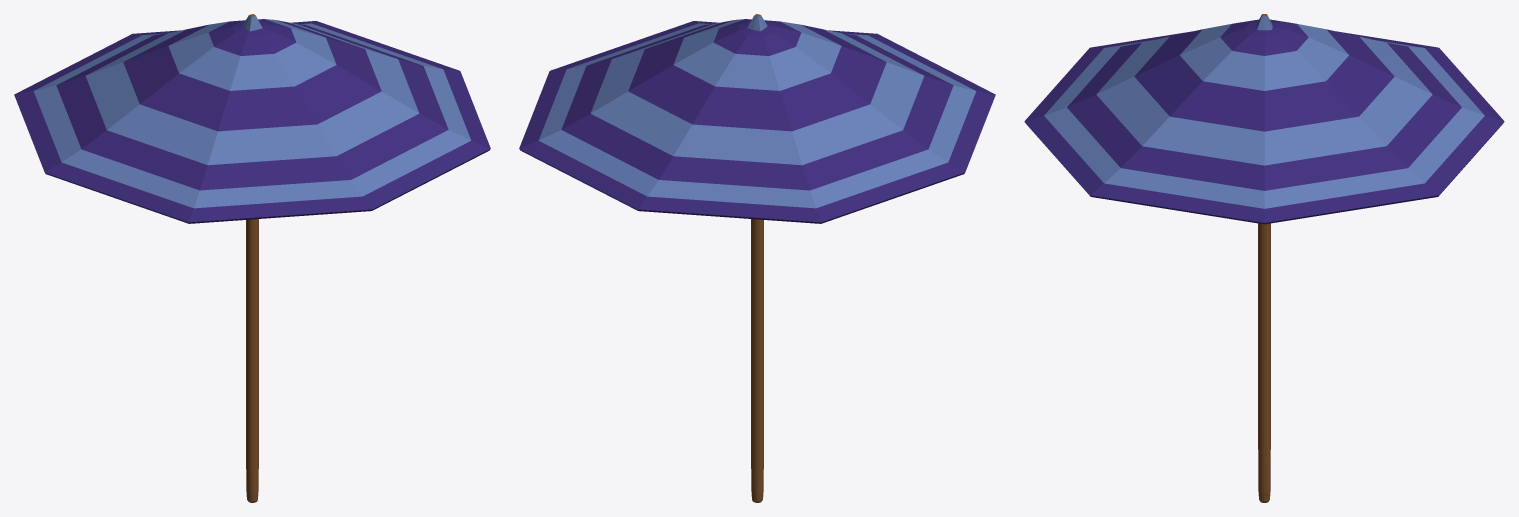
Rendered from umb2.fbx.
The picture shows the model from 3 angles, left to right: view 1: azimuth 30°, elevation 25°; view 2: azimuth 150°, elevation 25°; view 3: azimuth 270°, elevation 25°; orthographic projection.
Parts seen in each view (by area): view 1: Cube, Cube.001; view 2: Cube, Cube.001; view 3: Cube, Cube.001.
Boxes of the visible parts, x1,y1,x2,y2 form: Cube: [14, 14, 490, 223]; Cube.001: [246, 219, 258, 502]; Cube: [519, 14, 995, 223]; Cube.001: [751, 219, 763, 502]; Cube: [1024, 14, 1504, 224]; Cube.001: [1258, 223, 1270, 502].
Size of the model in its own units: 3015 by 3371 by 3015.
